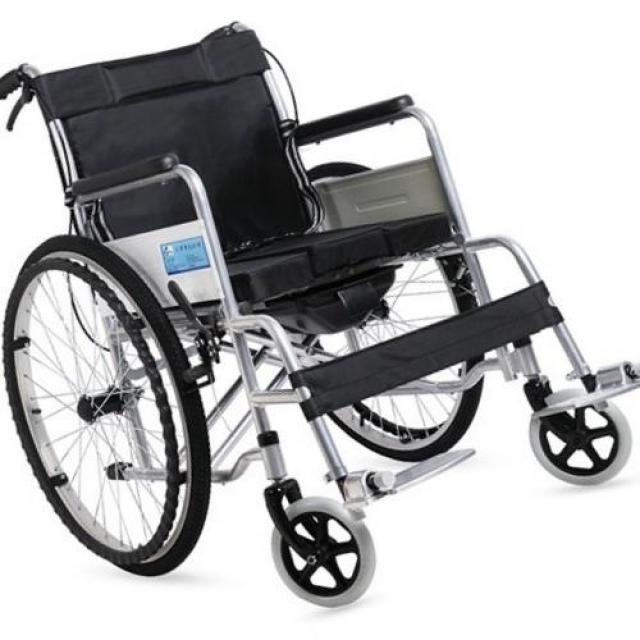wheelchair: (0, 20, 640, 609)
